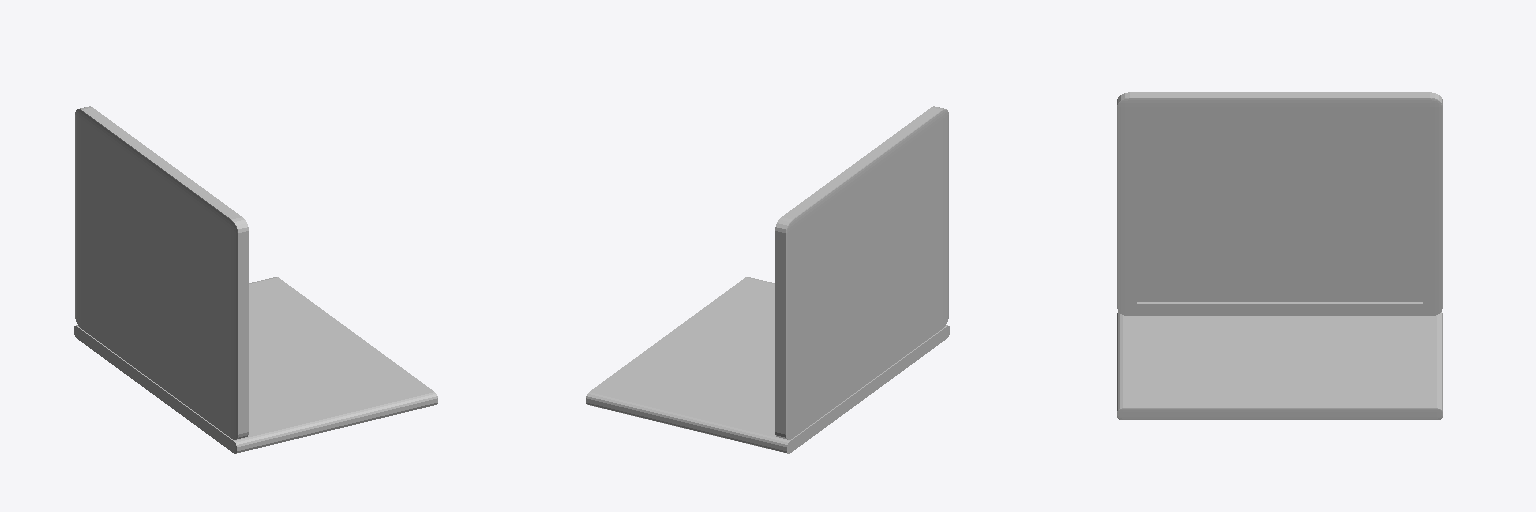
The model's file is computer.obj.
3 renders of one model, left to right at view 1: azimuth 30°, elevation 25°; view 2: azimuth 150°, elevation 25°; view 3: azimuth 270°, elevation 25°, orthographic.
Parts seen in each view (by area): view 1: pc_Cube; view 2: pc_Cube; view 3: pc_Cube.
Boxes of the visible parts, x1=… form: pc_Cube: x1=74, y1=106, x2=437, y2=453; pc_Cube: x1=586, y1=106, x2=949, y2=453; pc_Cube: x1=1117, y1=92, x2=1442, y2=419.
Bounding box in the file's own units: 2 × 2.19 × 2.8.